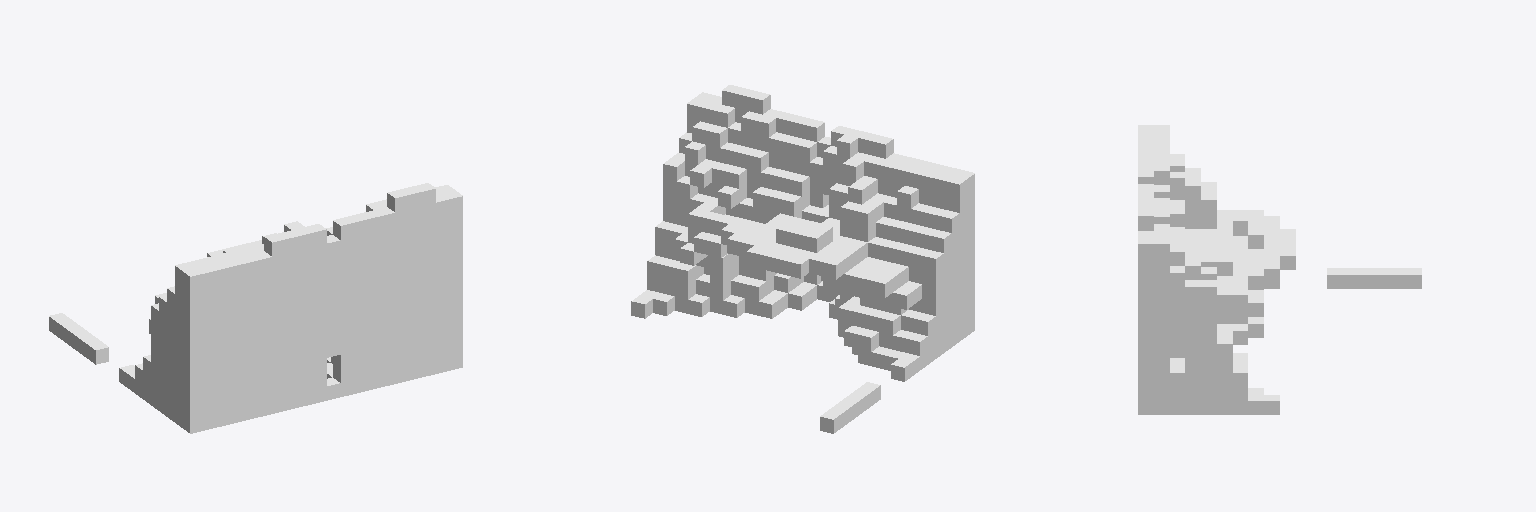
File: MIne_1.obj
The picture shows the model from 3 angles: view 1: azimuth 30°, elevation 25°; view 2: azimuth 150°, elevation 25°; view 3: azimuth 270°, elevation 25°; orthographic projection.
Visible parts, largest first — view 1: object 1; view 2: object 1; view 3: object 1.
Part boxes in pixels (left/top/right/bottom): object 1: left=49, top=183, right=462, bottom=433; object 1: left=631, top=85, right=974, bottom=433; object 1: left=1138, top=125, right=1421, bottom=414.
Bounding box in the file's own units: 2 × 1.3 × 1.8.